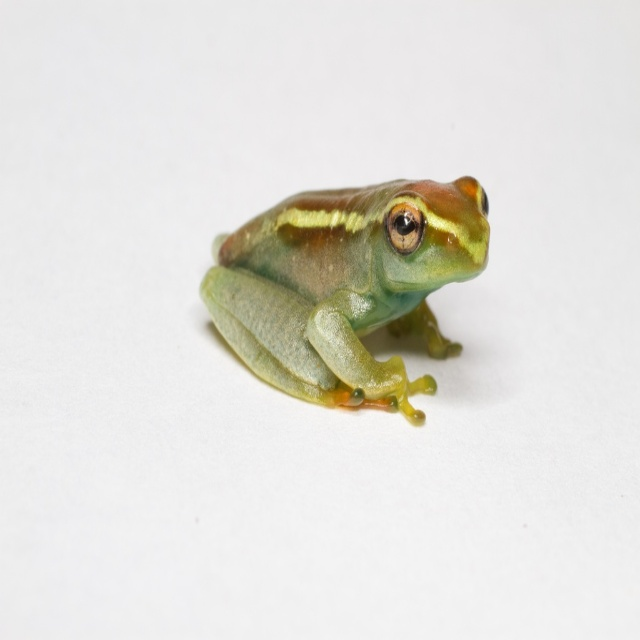Frog: (198, 176, 491, 423)
